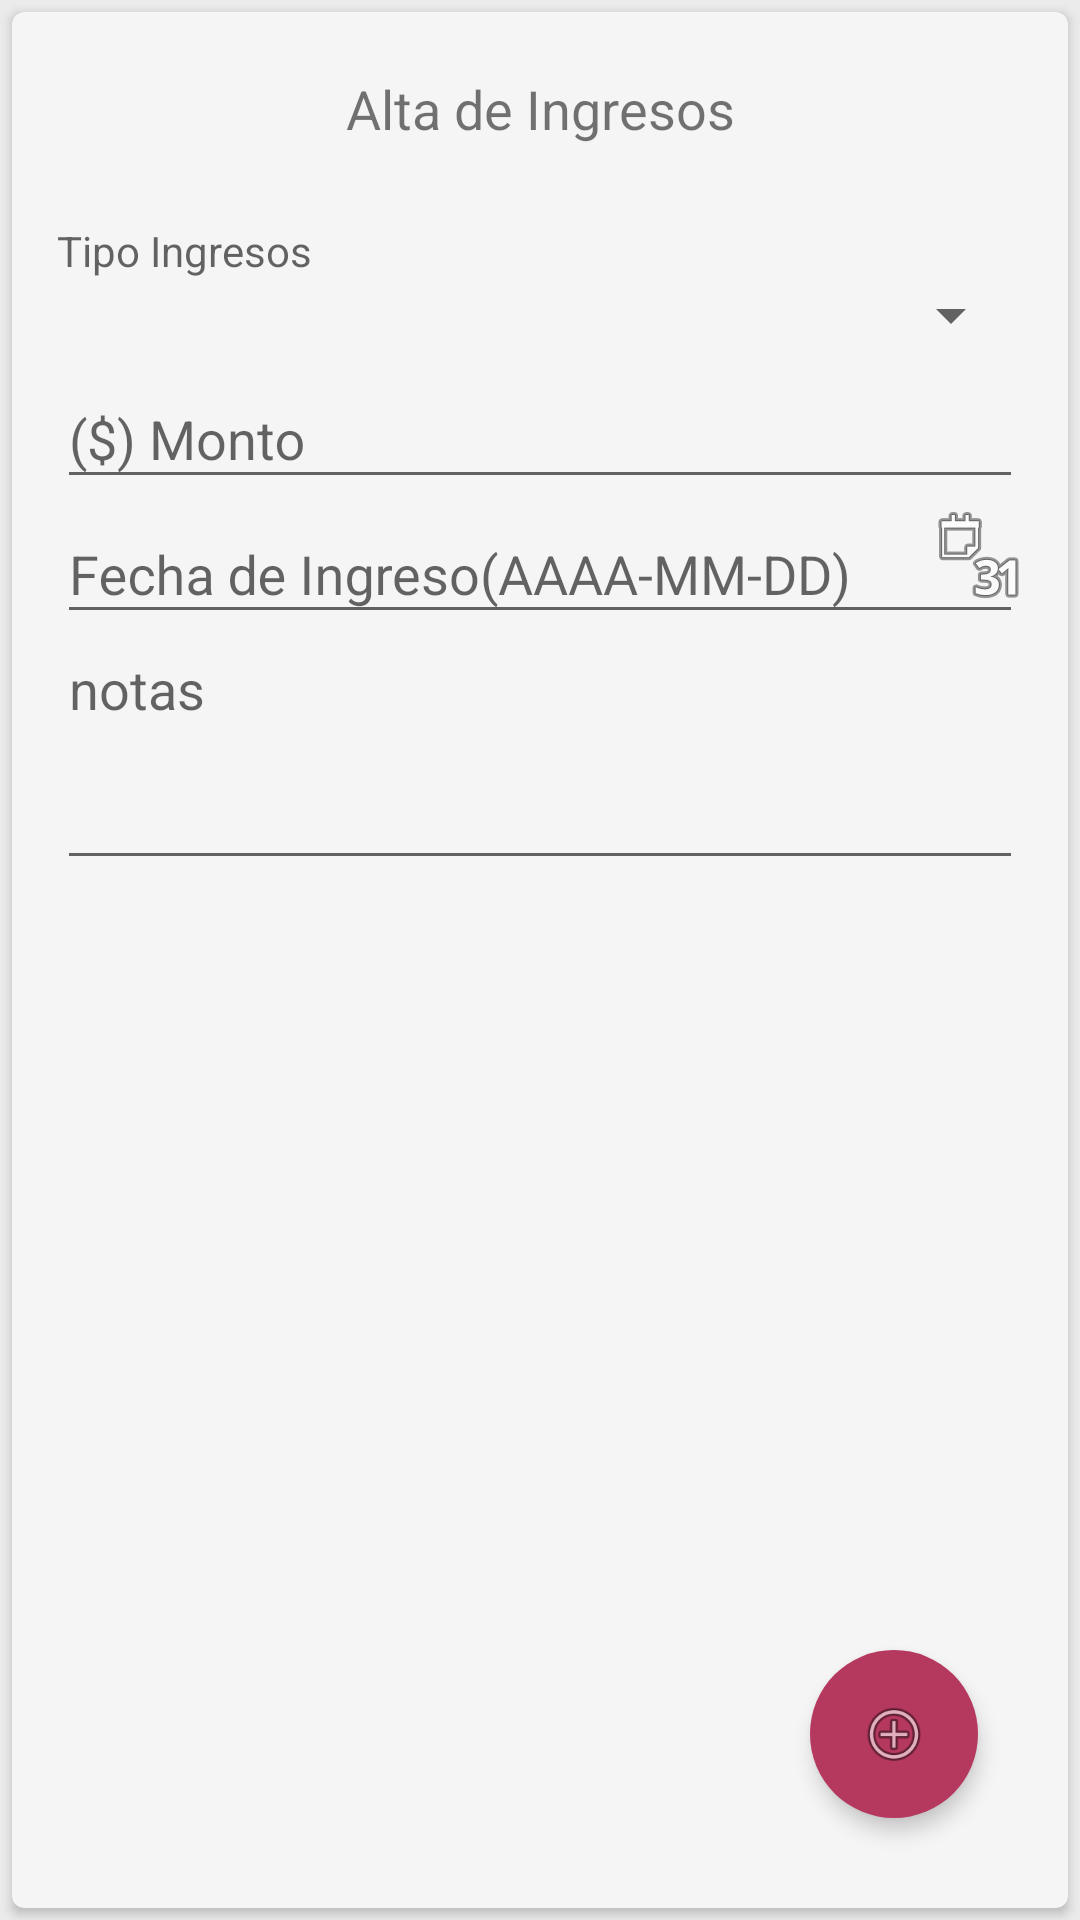

Where icons sit on this 1080w x 1920h app screen, as (left=x1, top=y1, right=x2, bottom=y2):
add: (left=810, top=1650, right=978, bottom=1818)
month: (left=938, top=512, right=1019, bottom=598)
